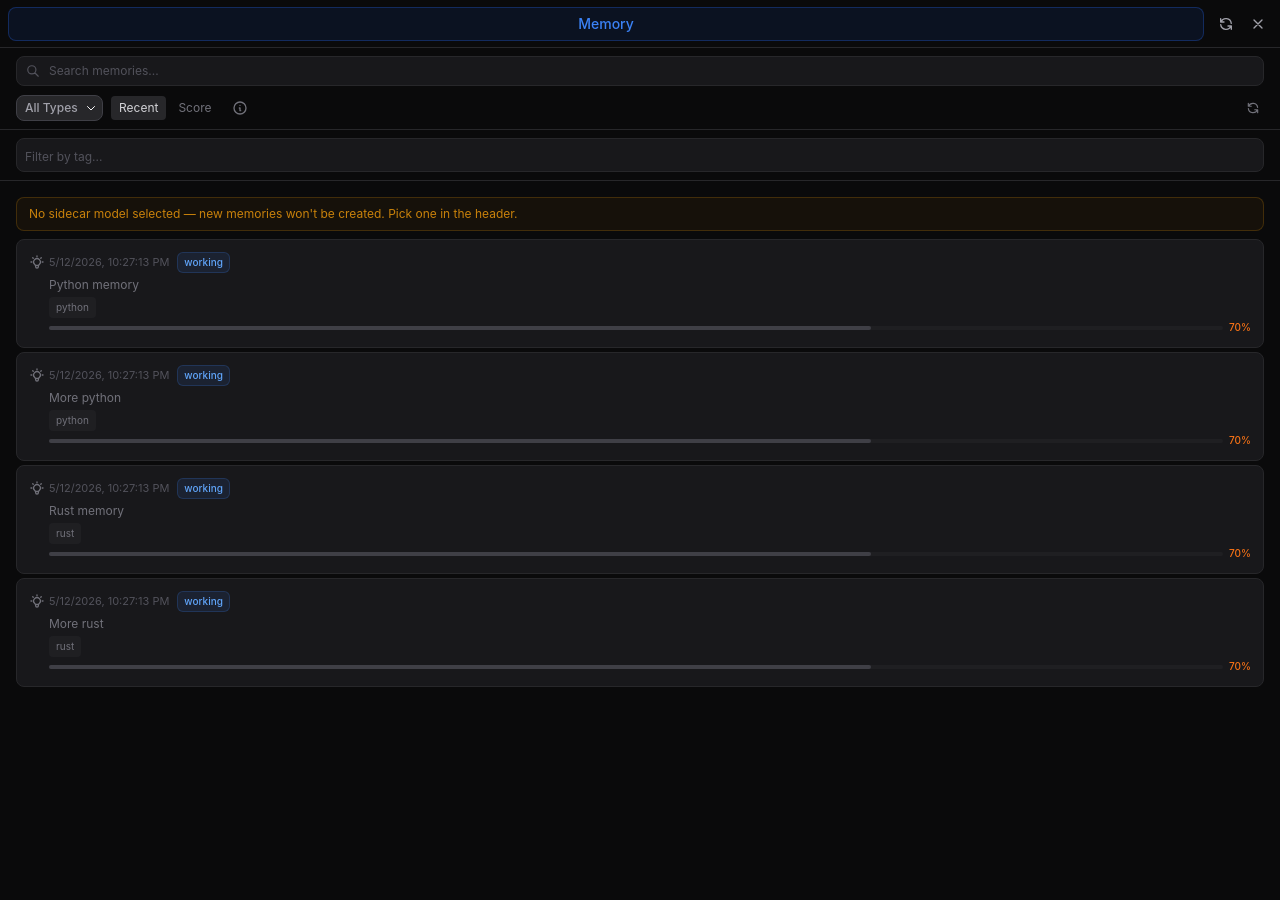
MemoryPanelV2 › Tag Filtering › filters memories when a tag suggestion is picked
Expected: the text "Python memory" is shown, [49,277,139,292]
Expected: the text "Rust memory" is shown, [49,503,124,518]
Type "py" into the field with placeholder "Filter by tag...".
click(640, 157); type("py")  # box [25,147,1255,167]
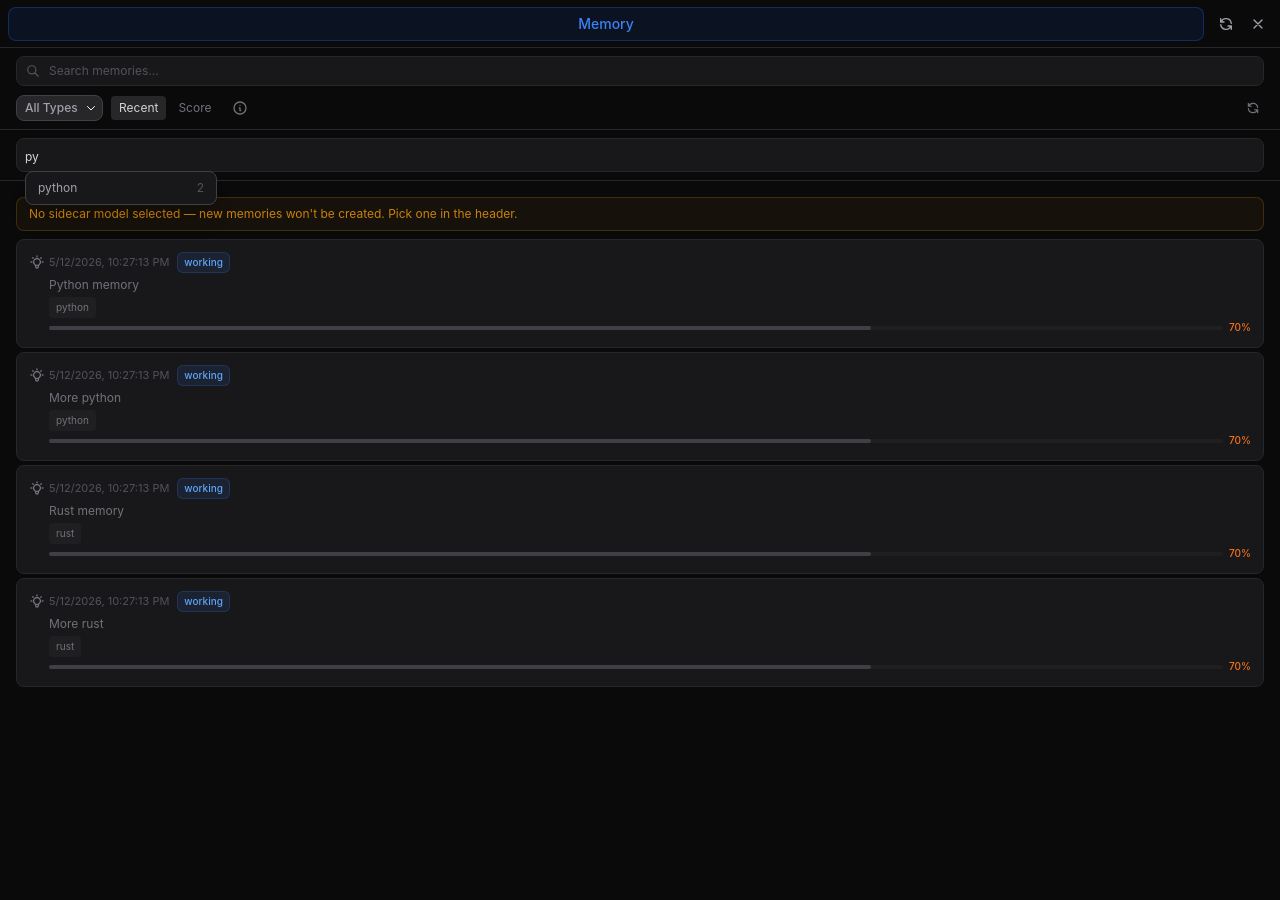
Press the mouse on the button "python 2" at (121, 188), box [26,176,216,200]
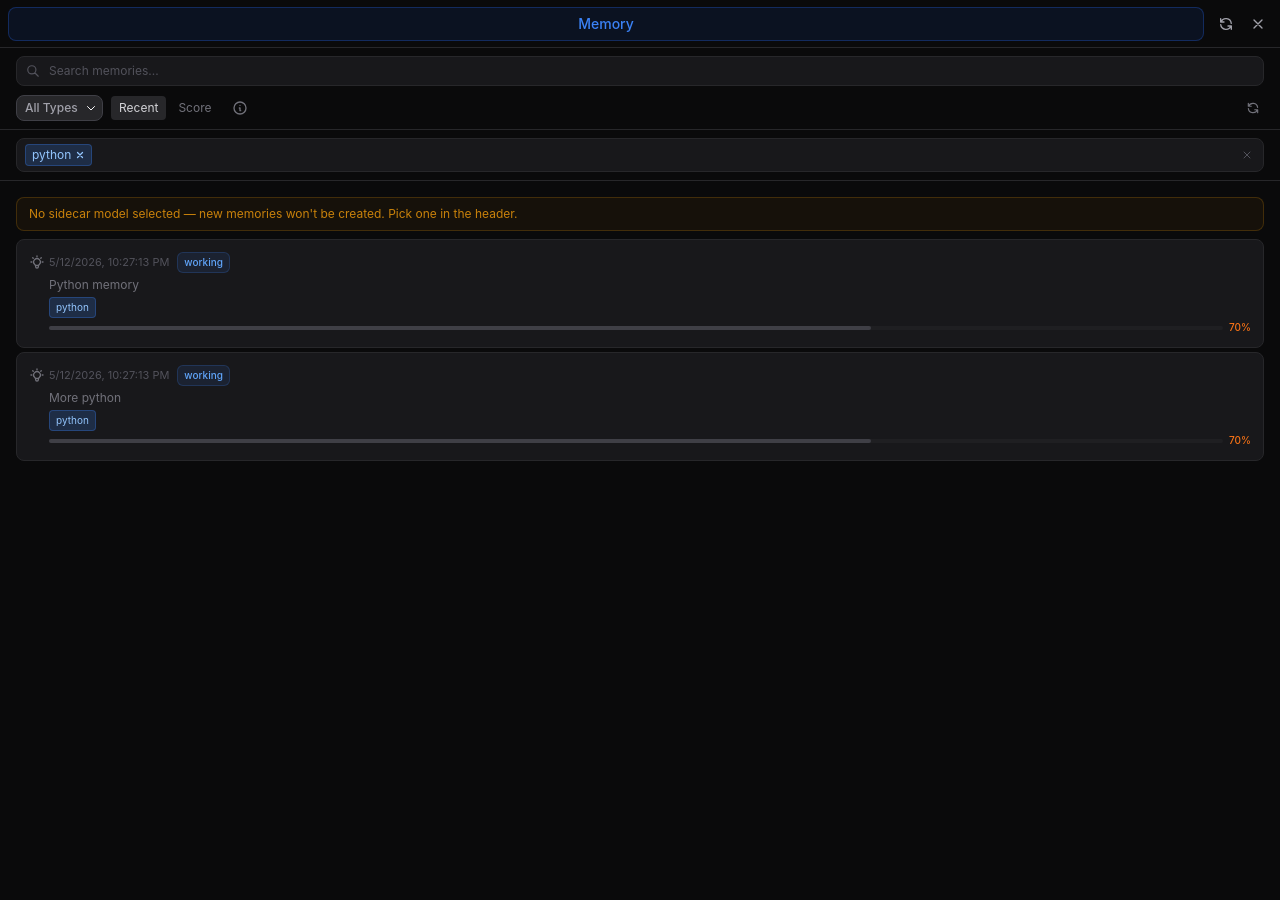
Expected: the text "Python memory" is shown, [49,277,139,292]
Expected: the text "Rust memory" is gone
